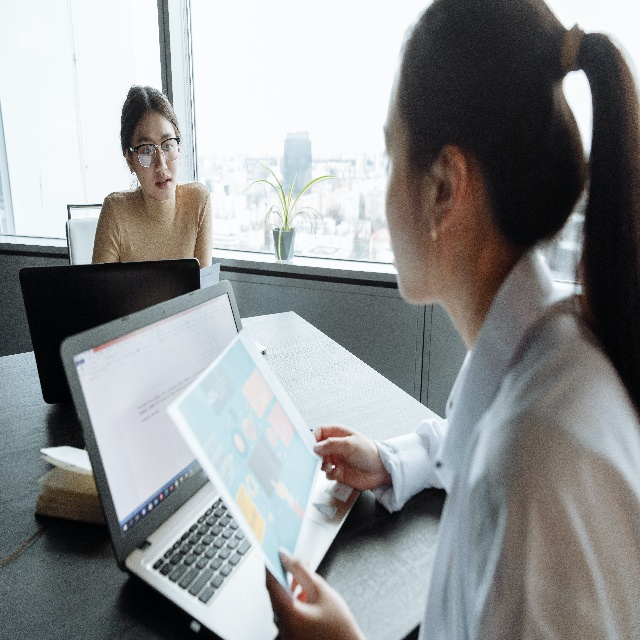Gafas: (129, 136, 179, 168)
Sin_guantes: (264, 541, 351, 640), (311, 423, 384, 494)
